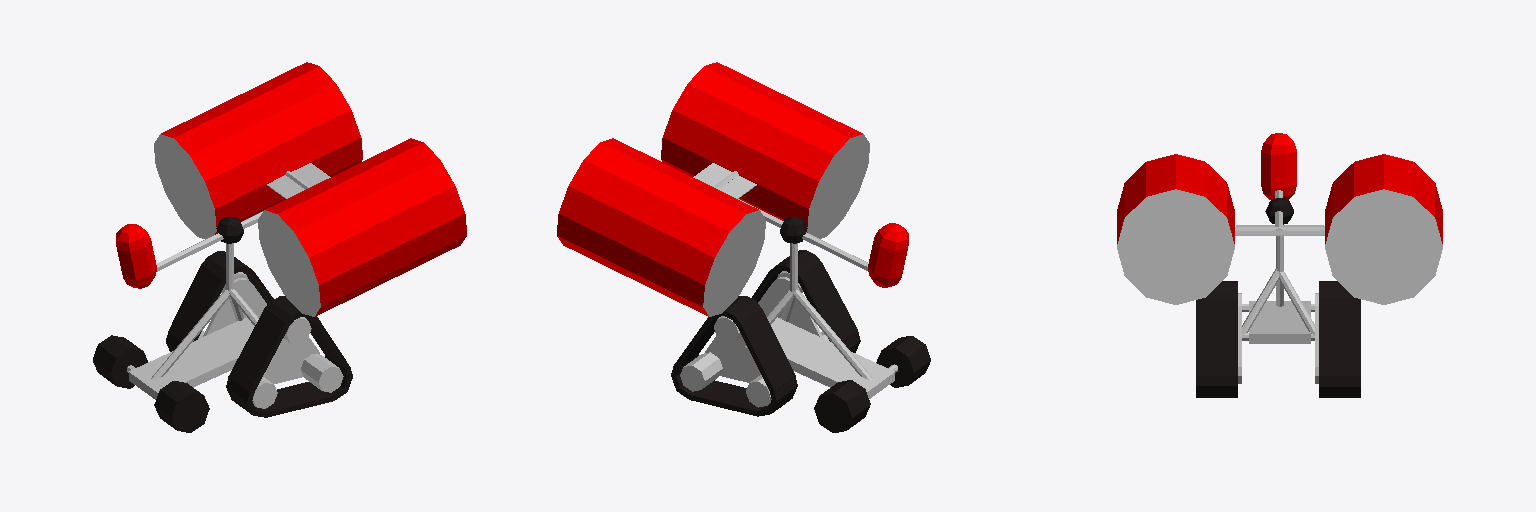
Rendered from commander.obj.
The picture shows the model from 3 angles: view 1: azimuth 30°, elevation 25°; view 2: azimuth 150°, elevation 25°; view 3: azimuth 270°, elevation 25°; orthographic projection.
Size of the model in its own units: 3.1 by 2.62 by 3.14.